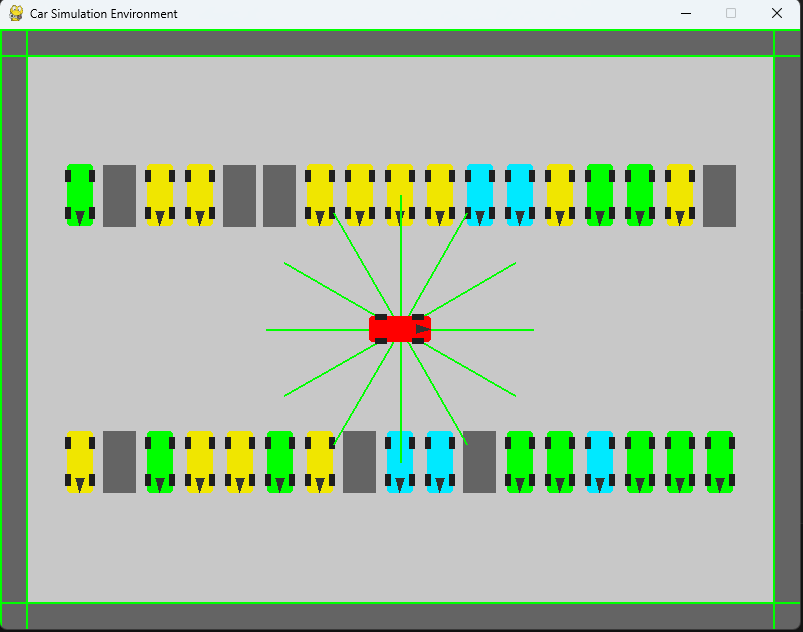ControlledCar: (363, 308, 435, 352)
ParkedCar: (661, 425, 699, 502), (582, 157, 621, 232), (461, 163, 503, 229), (701, 425, 740, 496), (302, 157, 338, 231), (343, 160, 379, 234), (502, 427, 540, 497), (182, 157, 217, 232), (219, 428, 257, 497), (541, 428, 578, 498), (383, 426, 419, 496), (543, 160, 577, 233), (662, 160, 699, 227), (62, 423, 96, 494), (59, 164, 97, 227), (422, 160, 456, 230), (304, 429, 338, 497), (584, 430, 618, 498), (262, 431, 298, 495), (622, 430, 658, 494), (145, 428, 178, 497), (504, 164, 540, 227), (383, 157, 415, 227), (183, 429, 218, 493), (622, 164, 655, 229), (144, 162, 176, 229), (424, 426, 454, 497)
ParkingSpot: (339, 424, 378, 499), (99, 160, 140, 231), (100, 423, 139, 496), (219, 161, 259, 232), (461, 425, 497, 500), (702, 160, 740, 230), (261, 160, 296, 234)
